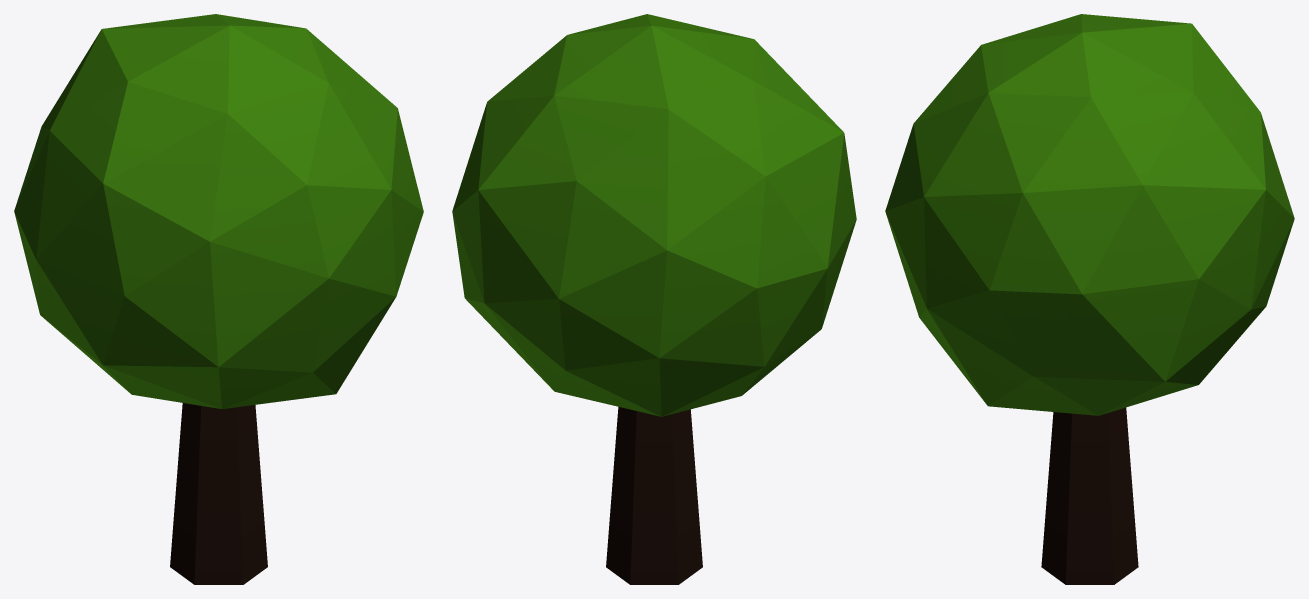
File: tree_round.glb
3 views of the same model, side by side, from view 1: azimuth 30°, elevation 25°; view 2: azimuth 150°, elevation 25°; view 3: azimuth 270°, elevation 25° (orthographic).
Visible parts, largest first — view 1: tree_round_root_body; view 2: tree_round_root_body; view 3: tree_round_root_body.
Boxes of the visible parts, <box> form: tree_round_root_body: <box>14,14,423,584</box>; tree_round_root_body: <box>452,14,856,584</box>; tree_round_root_body: <box>885,14,1294,584</box>.
Size of the model in its own units: 1.69 by 2.44 by 1.69.
